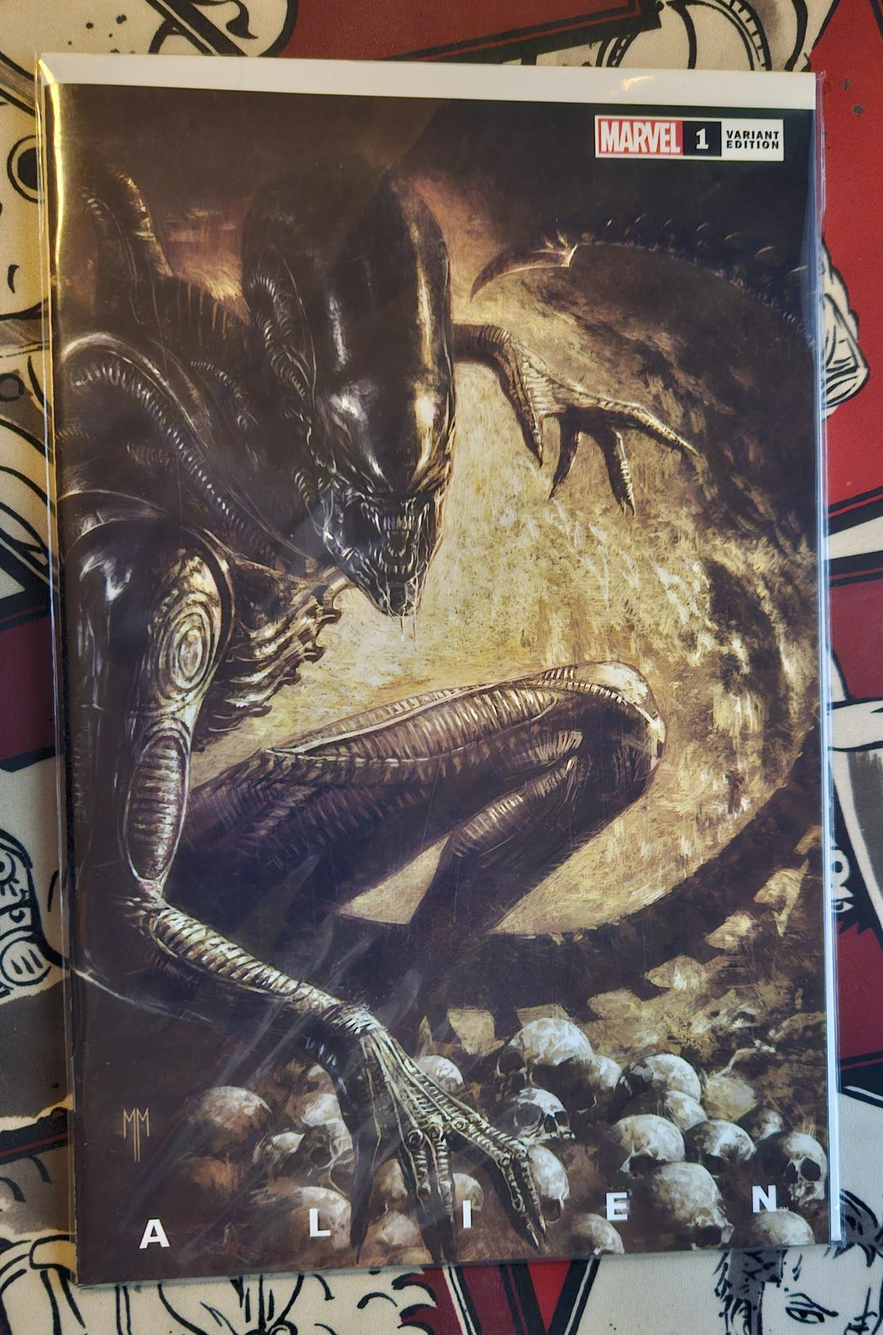comic: (41, 34, 849, 1282)
